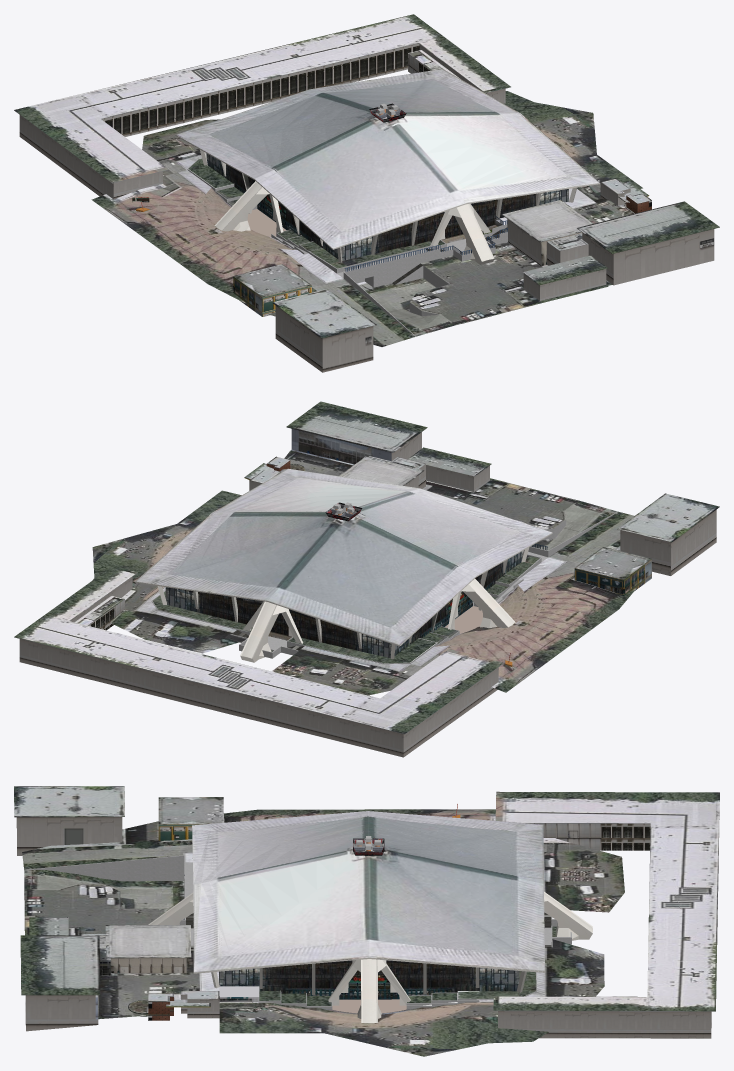
Rendered from building.fbx.
3 views of the same model, one above another, from view 1: azimuth 30°, elevation 25°; view 2: azimuth 150°, elevation 25°; view 3: azimuth 270°, elevation 25° (orthographic). The views are drawn at different scales.
Visible parts, largest first — view 1: Group1, Group_1_1, Group_1_3; view 2: Group1, Group_1_2, Group_1_3; view 3: Group1, Group_1_4, Group_1_2, Group_1_1, Group22.
Part boxes in pixels (left/top/right/bottom): Group1: left=14, top=14, right=719, bottom=372; Group_1_1: left=430, top=203, right=494, bottom=264; Group_1_3: left=214, top=181, right=283, bottom=233; Group1: left=14, top=401, right=719, bottom=757; Group_1_2: left=240, top=601, right=303, bottom=662; Group_1_3: left=448, top=579, right=515, bottom=629; Group1: left=14, top=786, right=719, bottom=1056; Group_1_4: left=328, top=959, right=410, bottom=1023; Group_1_2: left=544, top=891, right=592, bottom=940; Group_1_1: left=148, top=892, right=193, bottom=924; Group22: left=353, top=836, right=384, bottom=856.
Size of the model in its own units: 211 by 42.29 by 249.
